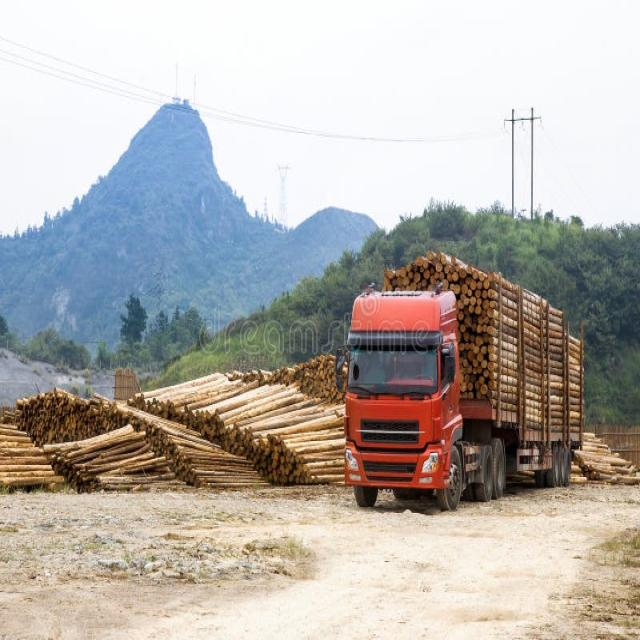Truck: (343, 245, 584, 511)
